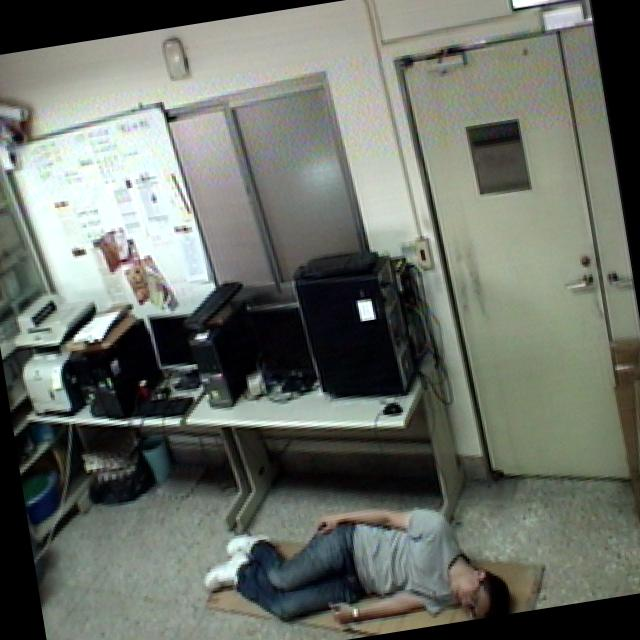lie: (182, 469, 527, 640)
